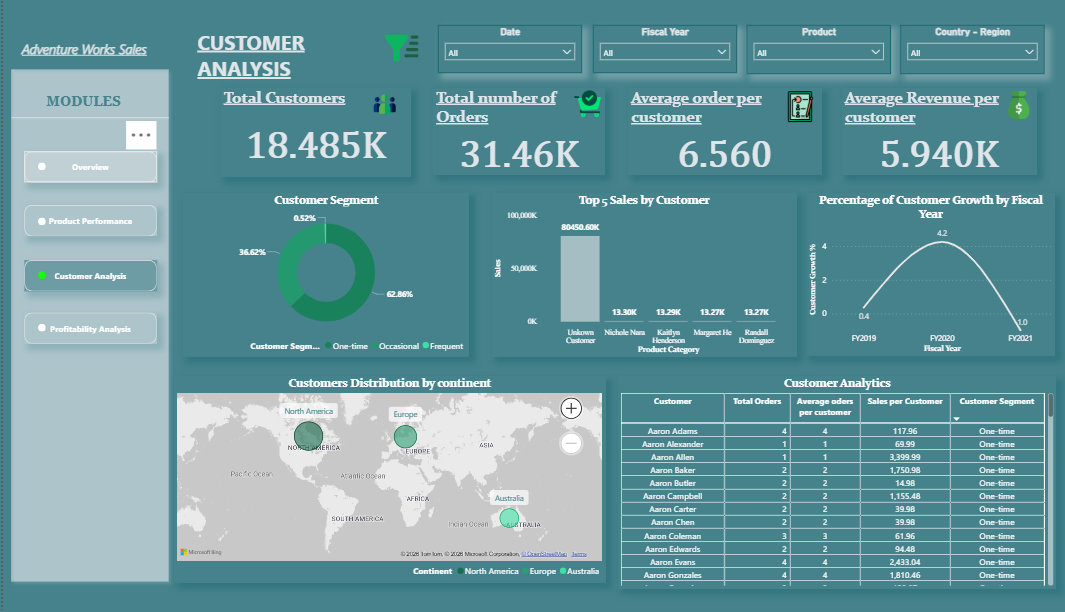

The dashboard page shown, as its layout file describes it:
{"tool":"powerbi","page":{"name":"Customer Analysis","canvas":[1700,1000],"ordinal":2},"visuals":[{"type":"textbox","box":[13.5,57.6,232.3,45.6],"z":0},{"type":"shape","box":[3.8,102.5,270,837.5],"z":1000},{"type":"textbox","box":[56.2,146.2,146.2,41.2],"z":2000},{"type":"textbox","box":[306.7,39.5,220,100],"z":3000},{"type":"slicer","title":"Date","fields":{"Values":["Dim_Date.Date"]},"box":[695,39.5,230,76.7],"z":4000},{"type":"slicer","title":"Product","fields":{"Values":["Dim_Product.Product"]},"box":[1190,39.5,230,78.3],"z":5000},{"type":"slicer","title":"Country - Region","fields":{"Values":["Dim_Customer.Country-Region"]},"box":[1435,39.5,230,78.3],"z":6000},{"type":"card","title":"Total Customers","fields":{"Values":["Measures_.TotalCustomers"]},"box":[348.3,140,305,143.3],"z":7000},{"type":"card","title":"Total number of Orders","fields":{"Values":["Count(Dim_SalesOrder.Sales Order)"]},"box":[688.3,140,275,140],"z":8000},{"type":"card","title":"Average order per customer","fields":{"Values":["Measures_.Average oder per customer"]},"box":[1000,140,310,140],"z":9000},{"type":"card","title":"Average Revenue per customer","fields":{"Values":["Measures_.Sales per Customer"]},"box":[1341.7,140,311.7,140],"z":10000},{"type":"columnChart","title":"Top 5 Sales by Customer","fields":{"Y":["Measures_.Sales per Customer"],"Category":["Dim_Customer.Customer"]},"box":[781.7,308.3,488.3,263.3],"z":11000},{"type":"map","title":"Customers Distribution by continent","fields":{"Size":["Count(Fact_Sales.CustomerKey)"],"Series":["Dim_SalesTerritory.Group"],"Category":["Dim_SalesTerritory.Group"]},"box":[273.3,601.7,690,330],"z":12000},{"type":"image","box":[591.7,42.8,90,70],"z":13000},{"type":"lineChart","title":"Percentage of Customer Growth by Fiscal Year","fields":{"Category":["Dim_Date.Fiscal Year"],"Y":["Measures_.Customer Growth %"]},"box":[1286.2,308.8,397.5,262.5],"z":14000},{"type":"slicer","title":"Fiscal Year","fields":{"Values":["Dim_Date.Fiscal Year"]},"box":[943.3,39.5,230,76.7],"z":15000},{"type":"pageNavigator","box":[33.8,241.2,212.5,50],"z":16000},{"type":"shape","box":[13.8,181.2,251.2,12.5],"z":17000},{"type":"shape","box":[55,260,12.5,12.5],"z":18000},{"type":"shape","box":[55,347.5,12.5,12.5],"z":19000},{"type":"pageNavigator","box":[33.8,328.8,212.5,50],"z":20000},{"type":"pageNavigator","box":[33.8,415,212.5,50],"z":21000},{"type":"shape","box":[55,433.8,12.5,12.5],"z":22000},{"type":"pageNavigator","box":[33.8,500,212.5,50],"z":23000},{"type":"shape","box":[55,518.8,12.5,12.5],"z":24000},{"type":"image","box":[586.7,143.3,50,45],"z":25000},{"type":"image","box":[905.7,132.9,58.6,68.6],"z":26000},{"type":"image","box":[1241.4,140,68.6,61.4],"z":27000},{"type":"image","box":[1598.6,140,54.3,55.7],"z":28000},{"type":"donutChart","title":"Customer Segment","fields":{"Category":["Dim_Customer.Customer Segment"],"Y":["Measures_.TotalCustomers"]},"box":[288.3,308.3,458.3,263.3],"z":29000},{"type":"pivotTable","title":"Customer Analytics","fields":{"Rows":["Dim_Customer.Customer"],"Values":["Measures_.Total Orders","Measures_.Average oder per customer","Measures_.Sales per Customer","Min(Dim_Customer.Customer Segment)"]},"box":[983.3,601.7,701.7,340],"z":30000}]}

Visuals, with their boxes in screenshot pixels (x1, y1, x2, y2), scaled from the page's 1700x1000 canvas onto the 1065x612 screenshot:
textbox: x1=8 y1=35 x2=154 y2=63
shape: x1=2 y1=63 x2=172 y2=575
textbox: x1=35 y1=89 x2=127 y2=115
textbox: x1=192 y1=24 x2=330 y2=85
"Date" slicer: x1=435 y1=24 x2=579 y2=71
"Product" slicer: x1=746 y1=24 x2=890 y2=72
"Country - Region" slicer: x1=899 y1=24 x2=1043 y2=72
"Total Customers" card: x1=218 y1=86 x2=409 y2=173
"Total number of Orders" card: x1=431 y1=86 x2=603 y2=171
"Average order per customer" card: x1=626 y1=86 x2=821 y2=171
"Average Revenue per customer" card: x1=841 y1=86 x2=1036 y2=171
"Top 5 Sales by Customer" columnChart: x1=490 y1=189 x2=796 y2=350
"Customers Distribution by continent" map: x1=171 y1=368 x2=603 y2=570
image: x1=371 y1=26 x2=427 y2=69
"Percentage of Customer Growth by Fiscal Year" lineChart: x1=806 y1=189 x2=1055 y2=350
"Fiscal Year" slicer: x1=591 y1=24 x2=735 y2=71
pageNavigator: x1=21 y1=148 x2=154 y2=178
shape: x1=9 y1=111 x2=166 y2=119
shape: x1=34 y1=159 x2=42 y2=167
shape: x1=34 y1=213 x2=42 y2=220
pageNavigator: x1=21 y1=201 x2=154 y2=232
pageNavigator: x1=21 y1=254 x2=154 y2=285
shape: x1=34 y1=265 x2=42 y2=273
pageNavigator: x1=21 y1=306 x2=154 y2=337
shape: x1=34 y1=318 x2=42 y2=325
image: x1=368 y1=88 x2=399 y2=115
image: x1=567 y1=81 x2=604 y2=123
image: x1=778 y1=86 x2=821 y2=123
image: x1=1001 y1=86 x2=1035 y2=120
"Customer Segment" donutChart: x1=181 y1=189 x2=468 y2=350
"Customer Analytics" pivotTable: x1=616 y1=368 x2=1056 y2=576
